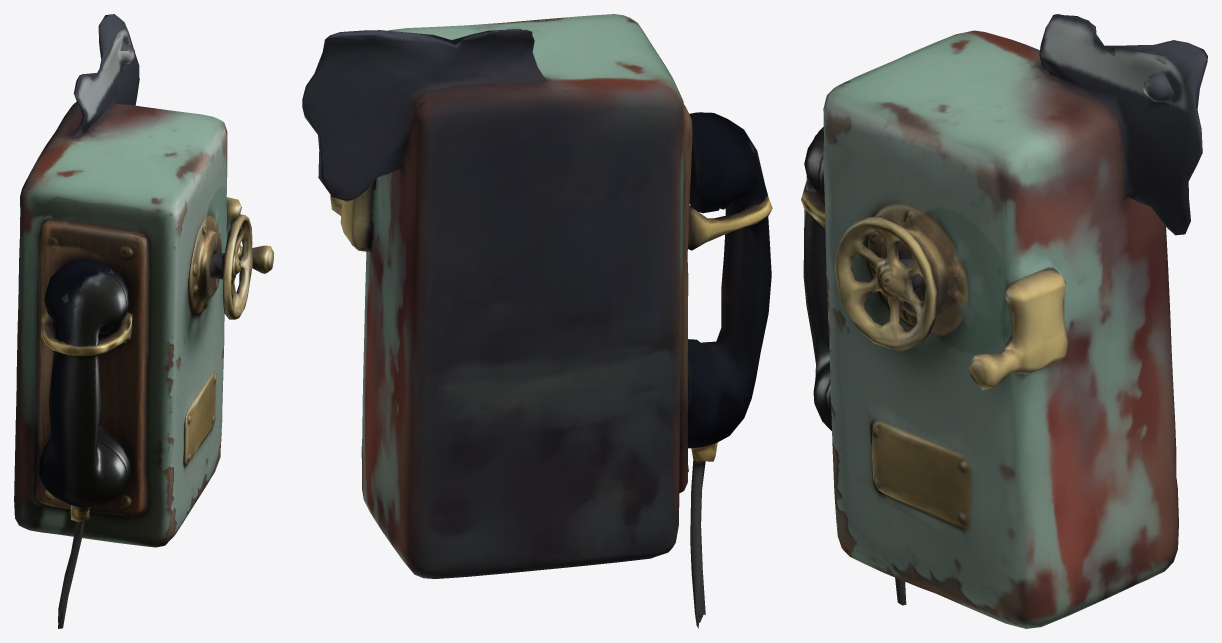
File: phone.fbx
3 views of the same model, side by side, from view 1: azimuth 30°, elevation 25°; view 2: azimuth 150°, elevation 25°; view 3: azimuth 270°, elevation 25° (orthographic). The views are drawn at different scales.
Visible parts, largest first — view 1: Mesh_0.001; view 2: Mesh_0.001; view 3: Mesh_0.001.
Boxes of the visible parts, x1,y1,x2,y2 form: Mesh_0.001: (14, 14, 273, 628); Mesh_0.001: (302, 14, 772, 628); Mesh_0.001: (801, 14, 1207, 628).
Size of the model in its own units: 0.5372 by 0.9152 by 0.5118.
Materials: 1 (1 with a texture image).
